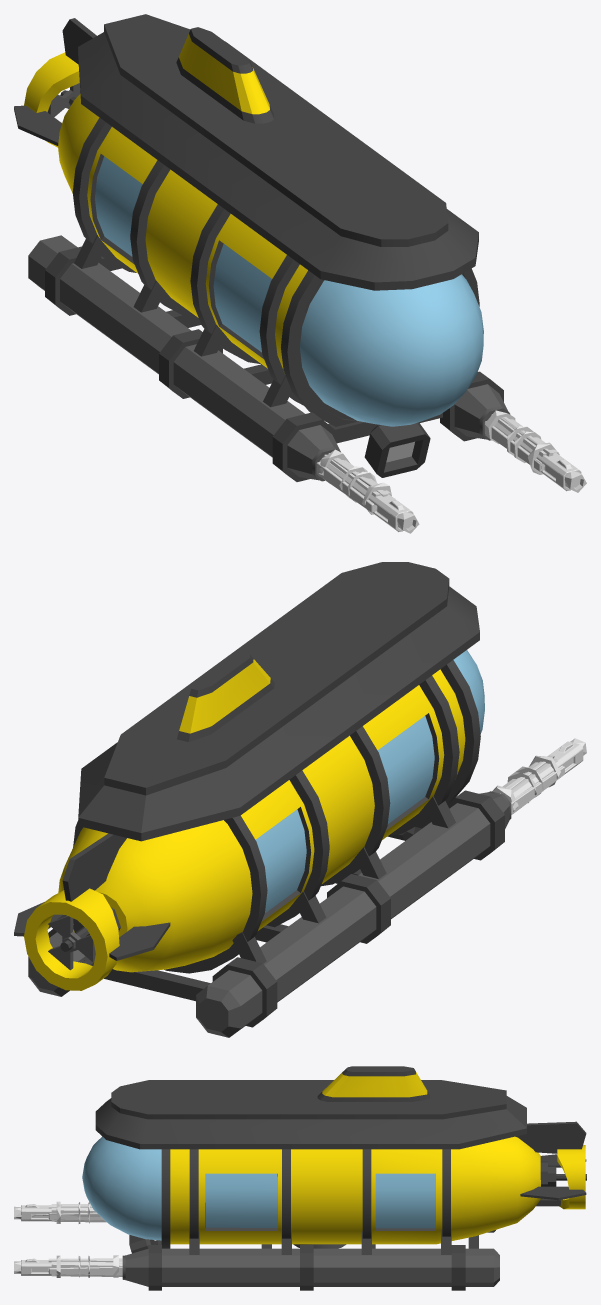
The model's file is Submarine Large-Applied Modifiers.fbx.
3 renders of one model, top to bottom at view 1: azimuth 30°, elevation 25°; view 2: azimuth 150°, elevation 25°; view 3: azimuth 270°, elevation 25°, orthographic. The views are drawn at different scales.
Visible parts, largest first — view 1: Large Submarine, Large Windows, Laser Gun Left, Laser Gun Right, Minigun Left, Minigun Right; view 2: Large Submarine, Large Windows, Laser Gun Left, Propellor, Minigun Right; view 3: Large Submarine, Large Windows, Laser Gun Right, Laser Gun Left, Shotgun Left, Minigun Left, Minigun Right, Shotgun Right.
Part boxes in pixels (bbox=[...]): Large Submarine: bbox=[14, 14, 510, 481]; Large Windows: bbox=[95, 156, 483, 426]; Laser Gun Left: bbox=[316, 458, 413, 531]; Laser Gun Right: bbox=[484, 417, 581, 491]; Minigun Left: bbox=[484, 410, 559, 474]; Minigun Right: bbox=[318, 449, 391, 514]; Large Submarine: bbox=[14, 562, 511, 1037]; Large Windows: bbox=[255, 650, 484, 912]; Laser Gun Left: bbox=[505, 741, 583, 814]; Propellor: bbox=[48, 916, 95, 970]; Minigun Right: bbox=[492, 755, 560, 811]; Large Submarine: bbox=[95, 1066, 586, 1290]; Large Windows: bbox=[82, 1136, 435, 1240]; Laser Gun Right: bbox=[21, 1258, 122, 1275]; Laser Gun Left: bbox=[21, 1204, 104, 1221]; Shotgun Left: bbox=[51, 1258, 122, 1276]; Minigun Left: bbox=[48, 1255, 122, 1277]; Minigun Right: bbox=[48, 1201, 100, 1223]; Shotgun Right: bbox=[51, 1204, 106, 1222].
Bounding box in the file's own units: 493 × 631 × 1659.
